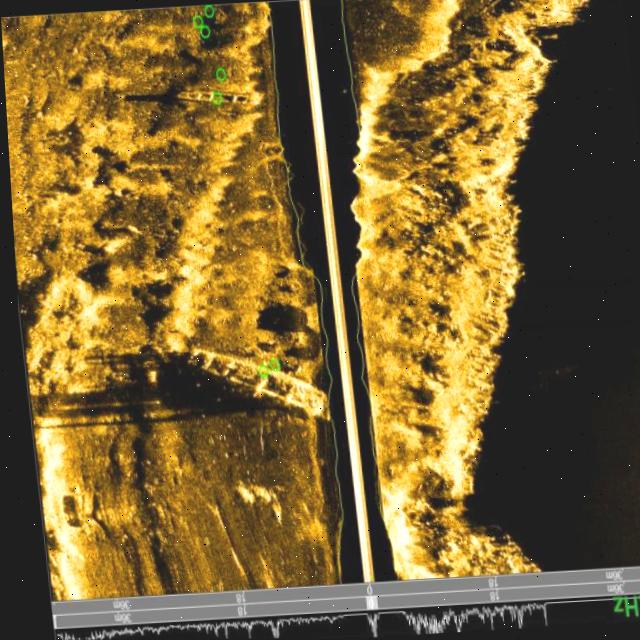shipwreck: (181, 332, 329, 434)
